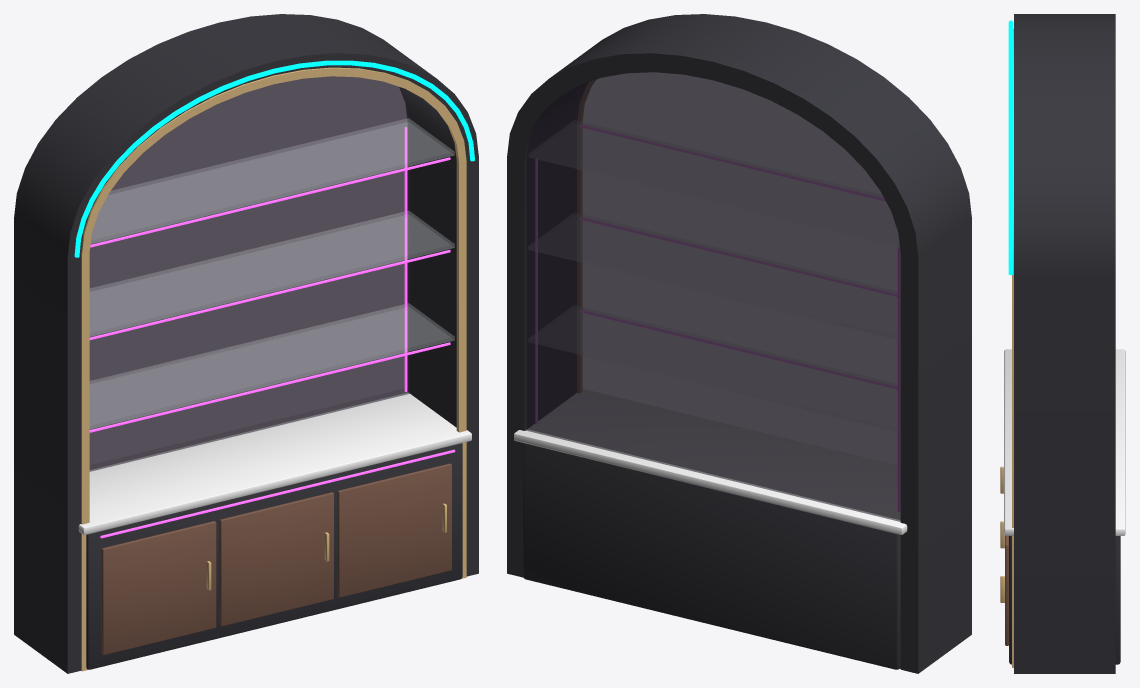
Rendered from KIT_Estante_Bar.glb.
3 views of the same model, side by side, from view 1: azimuth 30°, elevation 25°; view 2: azimuth 150°, elevation 25°; view 3: azimuth 270°, elevation 25° (orthographic). The views are drawn at different scales.
Parts seen in each view (by area): view 1: KIT_Estante_Bar; view 2: KIT_Estante_Bar; view 3: KIT_Estante_Bar.
Boxes of the visible parts, left/top/right/bottom form: KIT_Estante_Bar: left=14, top=14, right=478, bottom=673; KIT_Estante_Bar: left=507, top=14, right=971, bottom=673; KIT_Estante_Bar: left=1000, top=14, right=1125, bottom=673.
Bounding box in the file's own units: 1.86 × 2.43 × 0.515.
